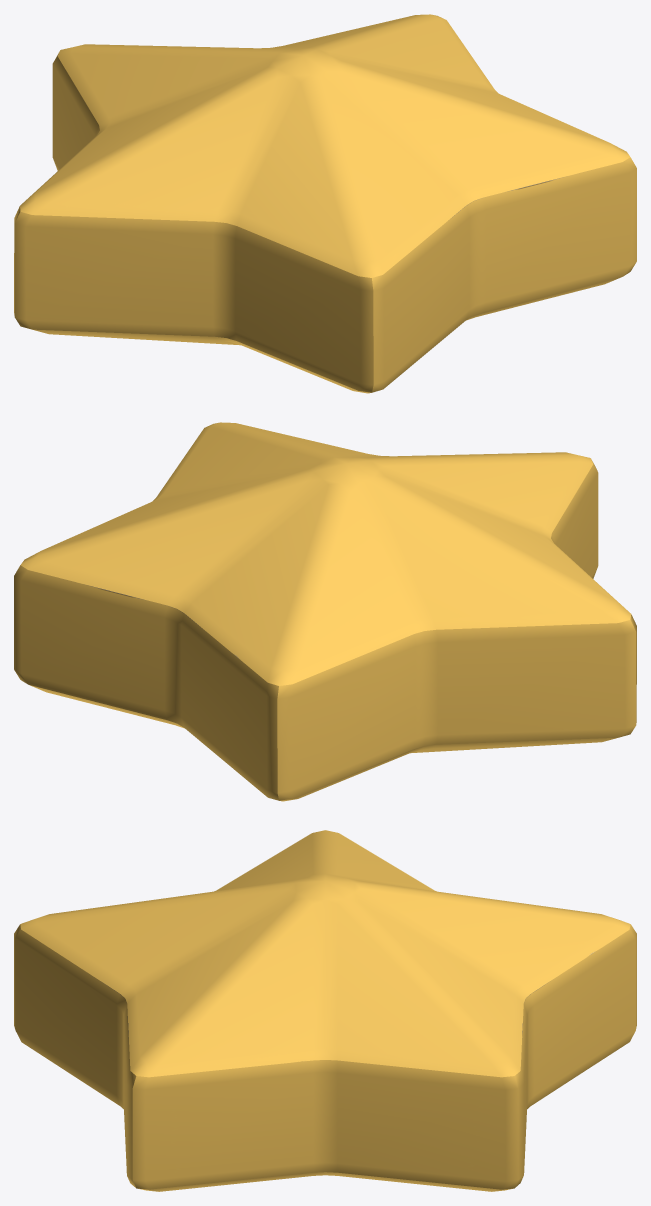
Rendered from StarTextured.fbx.
3 views of the same model, one above another, from view 1: azimuth 30°, elevation 25°; view 2: azimuth 150°, elevation 25°; view 3: azimuth 270°, elevation 25° (orthographic). The views are drawn at different scales.
Visible parts, largest first — view 1: pCylinder1; view 2: pCylinder1; view 3: pCylinder1.
Part boxes in pixels (box(x1,y1,x2,y2)): pCylinder1: box(14, 14, 636, 393); pCylinder1: box(14, 422, 636, 801); pCylinder1: box(14, 830, 636, 1191).
Size of the model in its own units: 1.77 by 0.9253 by 1.85.
1 material, 1 textured.
